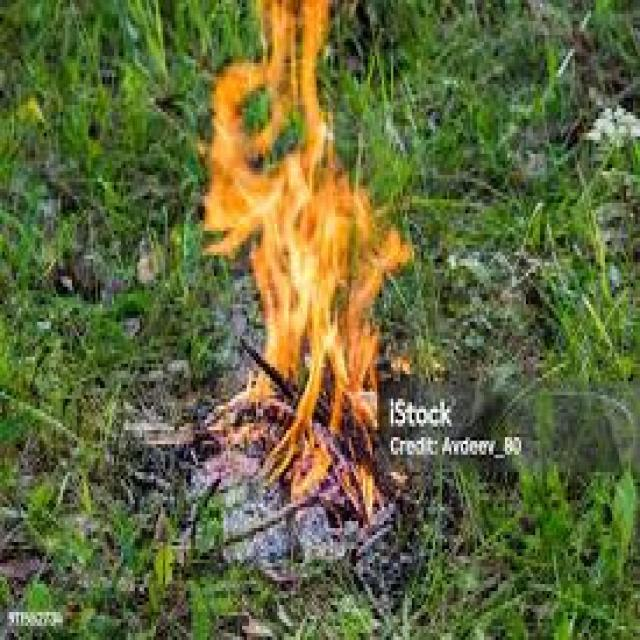fire: (203, 159, 410, 267), (253, 267, 379, 416), (262, 417, 382, 523), (298, 0, 335, 171), (262, 0, 300, 158), (210, 61, 263, 157)
